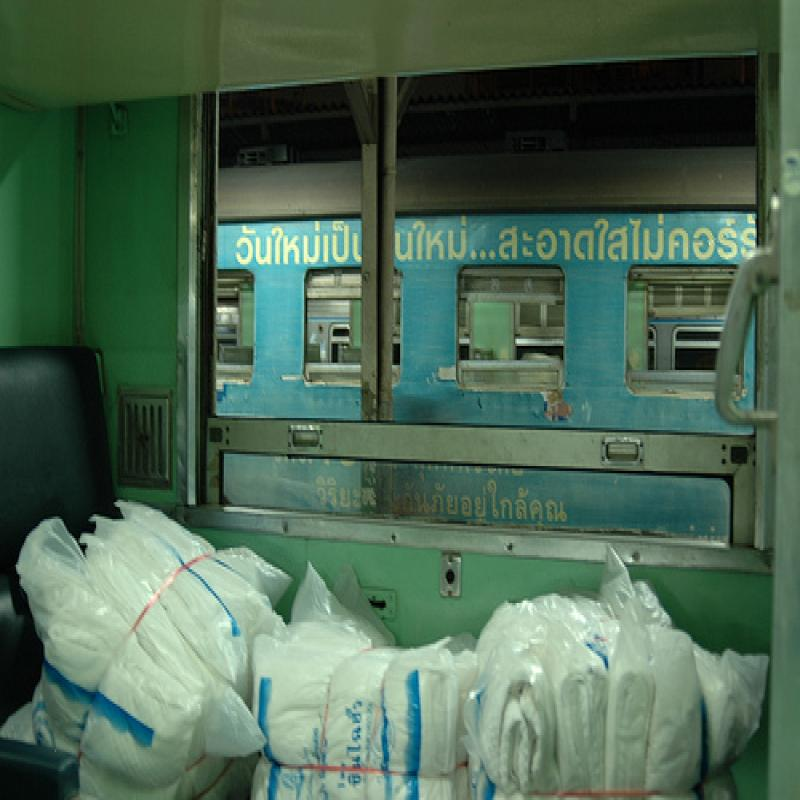train: (219, 148, 760, 551)
